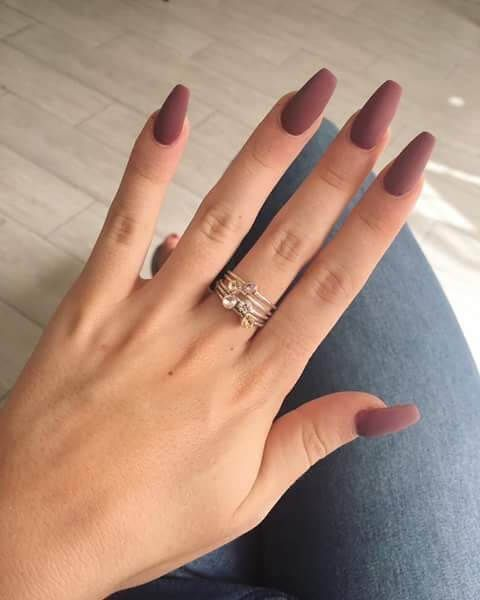nails: (271, 58, 341, 139), (339, 77, 409, 151), (378, 127, 444, 203), (347, 390, 432, 443), (147, 79, 196, 151)
